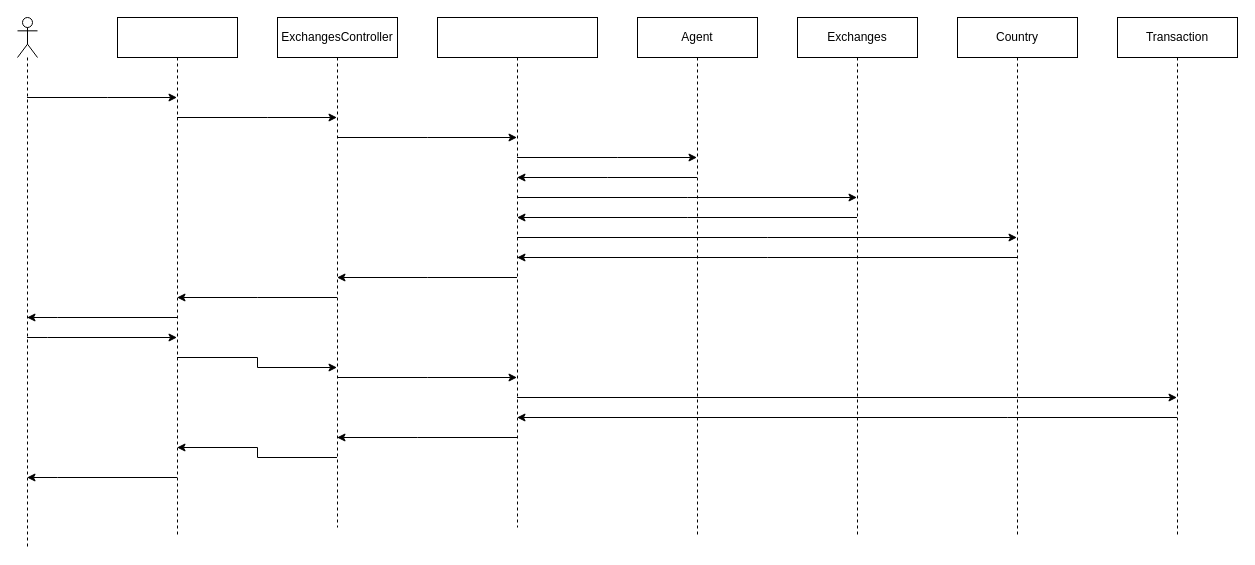
The diagram is 1255 pixels wide and 565 high, and some of its shapes have lost their labels. The box of each missing label's shape, as (x1, y1, x2, y2) in pixels:
:ExchangesPage: (116, 16, 238, 538)
ExchangesvIewModel: (436, 16, 598, 528)
